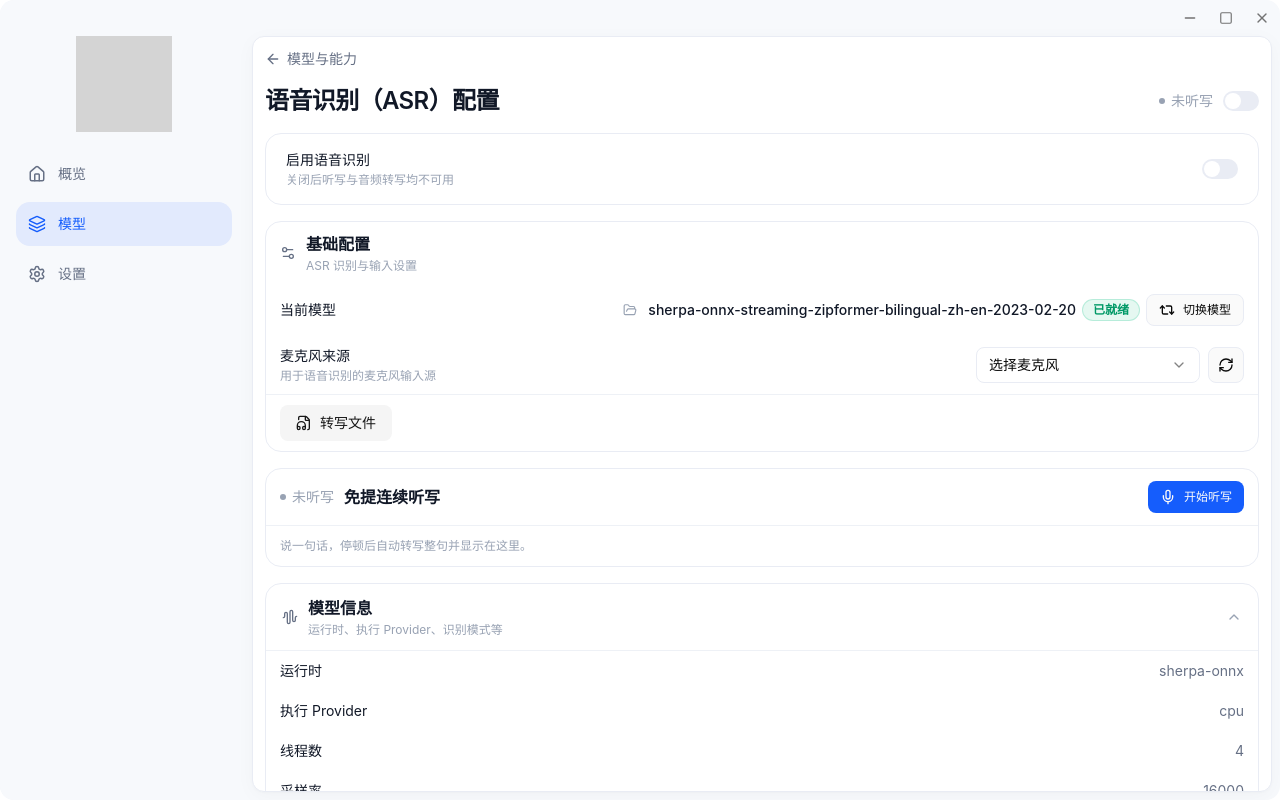
Test case: AsrPage（语音识别配置） › 转写弹窗重新打开：清空上次结果，可再次选择文件
The width and height of the screenshot is (1280, 800).
Expected: the heading "语音识别（ASR）配置" is shown, [265,85,499,117]
Click the button "转写文件".
click(336, 423)  # box [280,405,392,441]
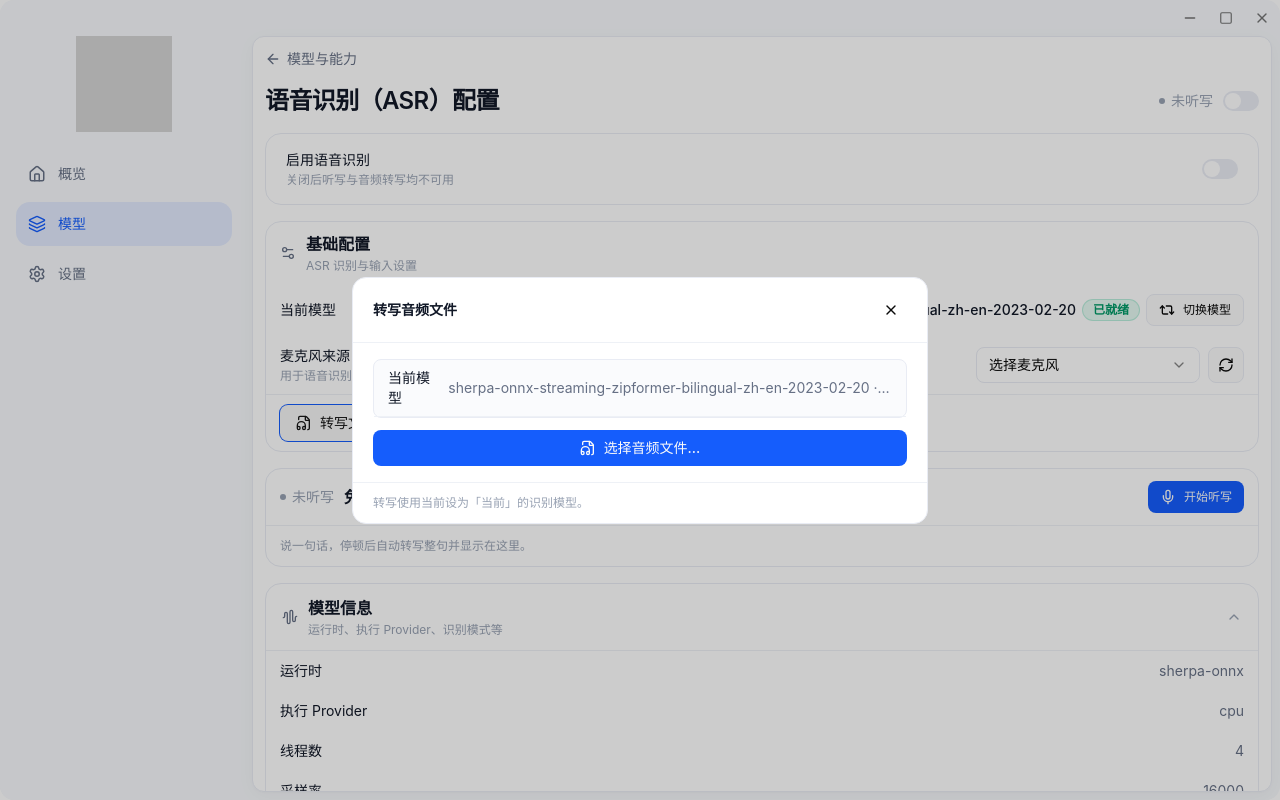
Click the button "选择音频文件…".
click(640, 448)  # box [373,430,907,466]
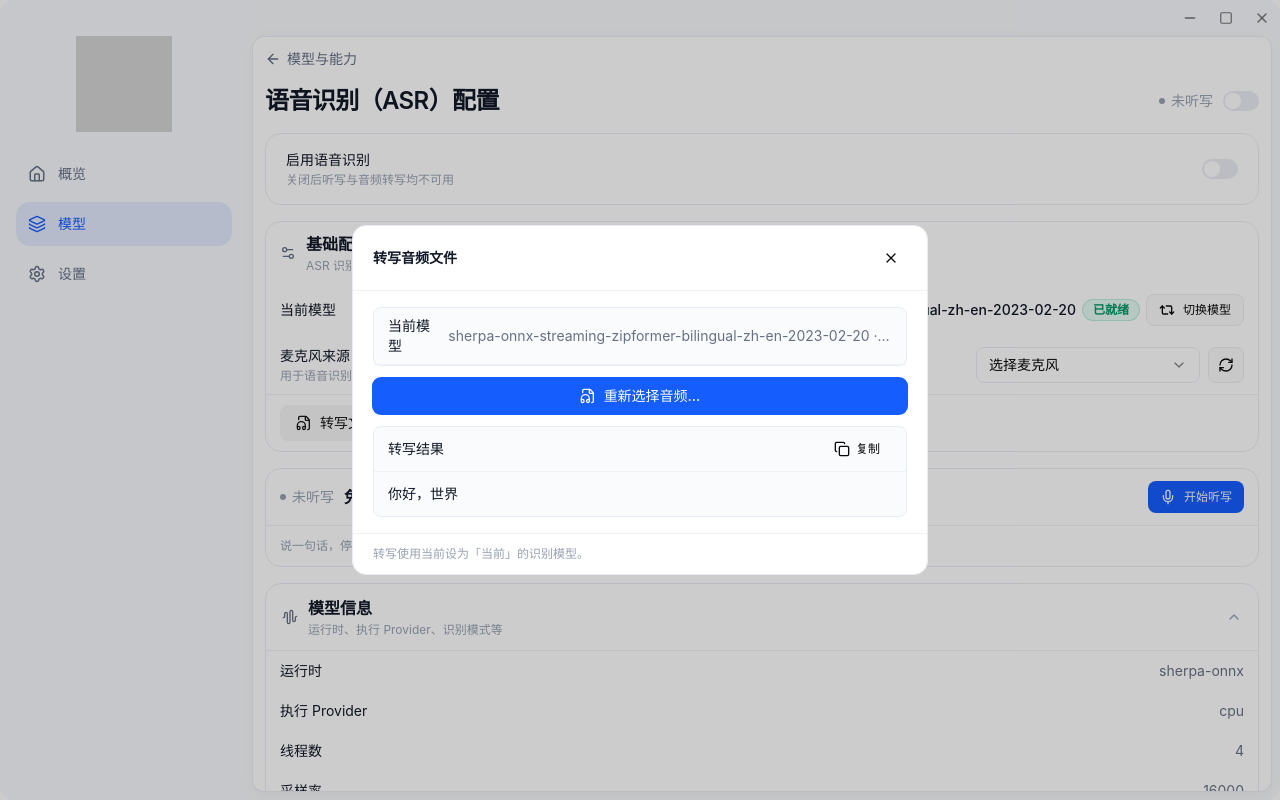
Now the text "你好，世界" is shown, box [388,485,458,502]
Press Escape
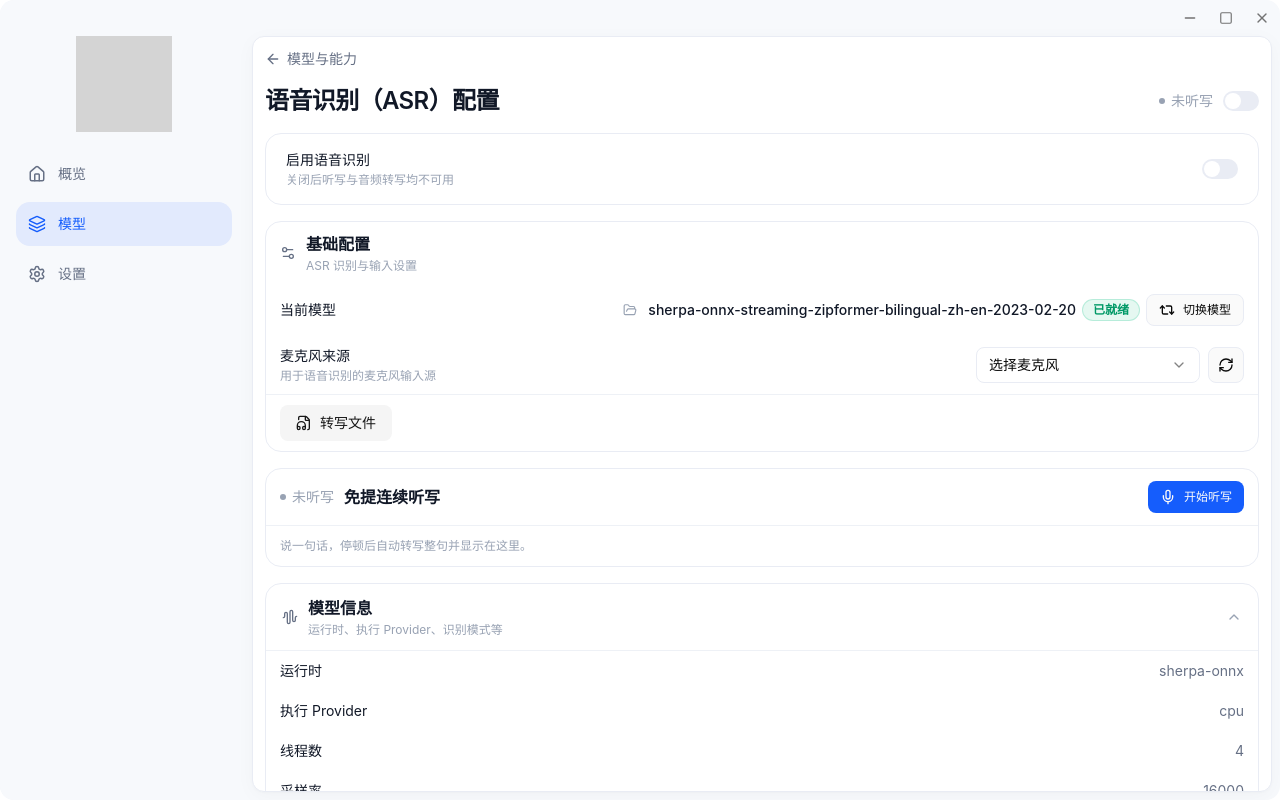
Now the dialog is gone
Click the button "转写文件".
click(336, 423)  # box [280,405,392,441]
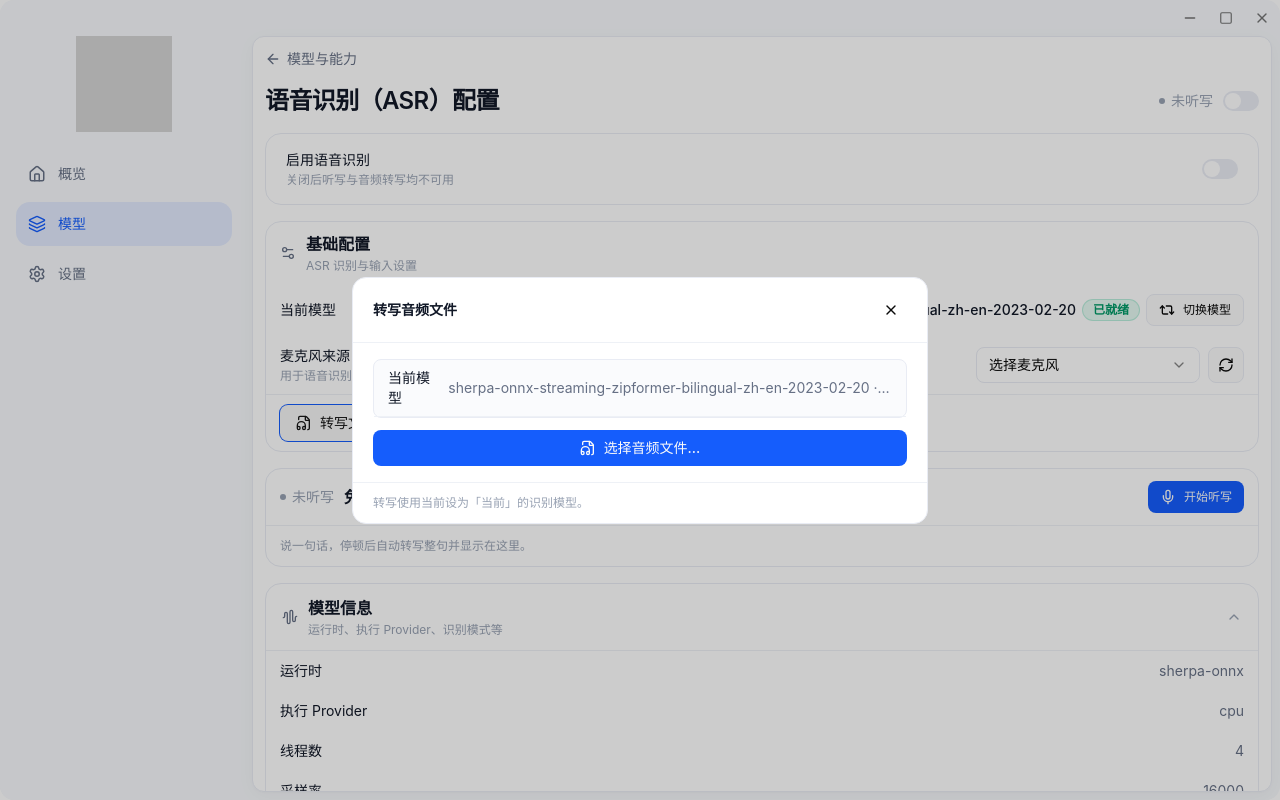
Expected: the text "你好，世界" is not shown
Now the heading "转写音频文件" is shown, box [373,300,457,320]
Now the button "选择音频文件…" is enabled, box [373,430,907,466]
